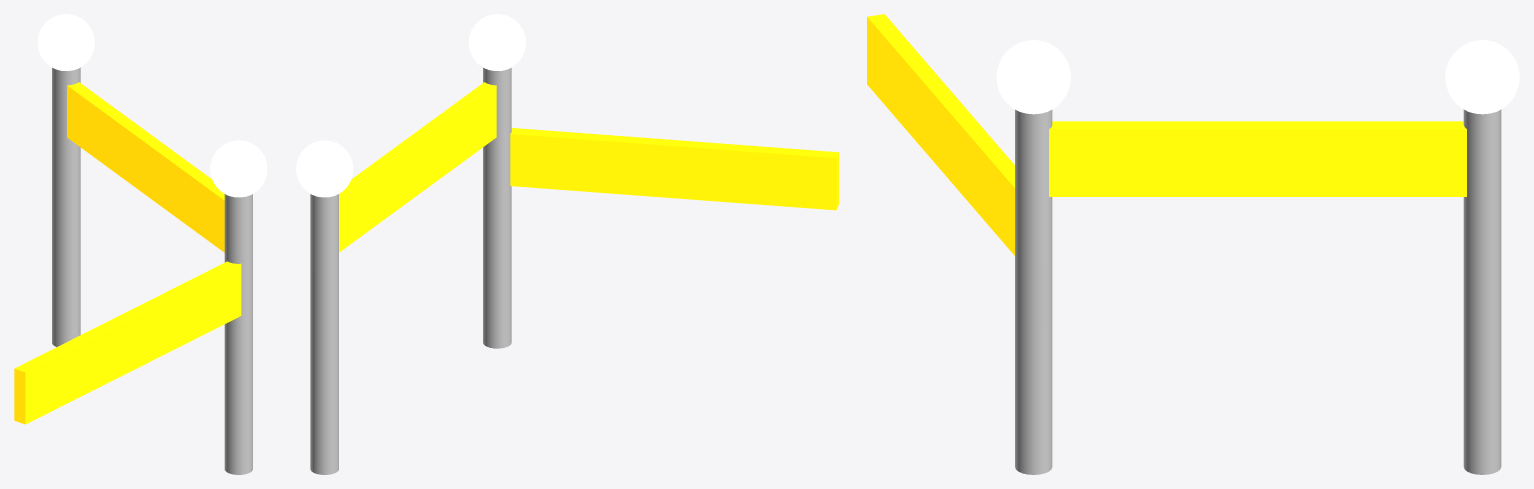
The model's file is StreetDecoOnLamp2_PH.fbx.
3 renders of one model, left to right at view 1: azimuth 30°, elevation 25°; view 2: azimuth 150°, elevation 25°; view 3: azimuth 270°, elevation 25°, orthographic. The views are drawn at different scales.
Parts seen in each view (by area): view 1: ChineseDeco__30_, ChineseDeco__29_, Lamppost___2_, Lampost__3_, LampLight__2_, LampLight__3_; view 2: ChineseDeco__30_, ChineseDeco__29_, Lamppost___2_, Lampost__3_, LampLight__2_, LampLight__3_; view 3: ChineseDeco__29_, Lamppost___2_, Lampost__3_, ChineseDeco__30_, LampLight__2_, LampLight__3_.
Part boxes in pixels (x1,y1,x2,y2): ChineseDeco__30_: (14,261,241,424); ChineseDeco__29_: (67,82,224,252); Lamppost___2_: (52,67,80,346); Lampost__3_: (224,194,252,474); LampLight__2_: (37,14,94,70); LampLight__3_: (210,140,267,197); ChineseDeco__30_: (510,128,838,210); ChineseDeco__29_: (339,82,496,252); Lamppost___2_: (310,194,338,474); Lampost__3_: (483,67,511,348); LampLight__2_: (296,140,353,197); LampLight__3_: (468,14,525,70); ChineseDeco__29_: (1049,121,1466,196); Lamppost___2_: (1463,109,1501,474); Lampost__3_: (1015,109,1052,474); ChineseDeco__30_: (867,14,1014,255); LampLight__2_: (1445,40,1519,114); LampLight__3_: (996,40,1070,114).
Size of the model in its own units: 308 by 312 by 436.
